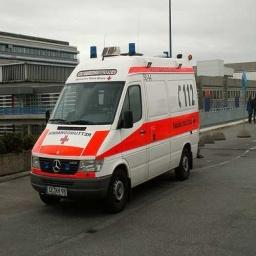Ambulance: (30, 44, 198, 211)
